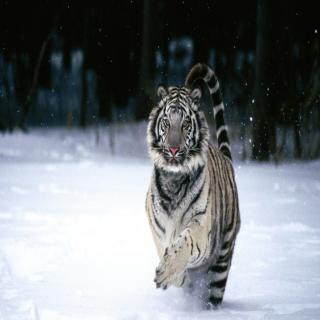Tiger: (144, 62, 242, 310)
